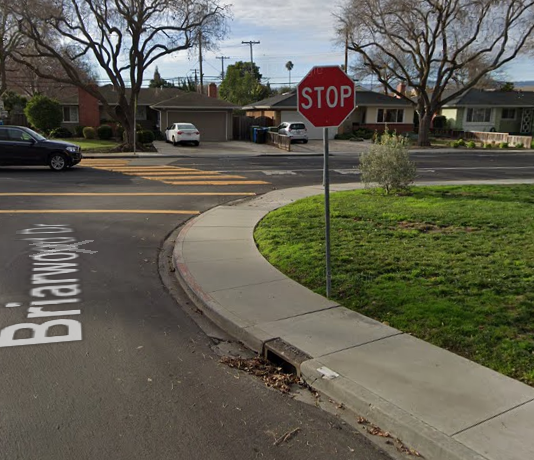stop_sign: (295, 67, 354, 125)
